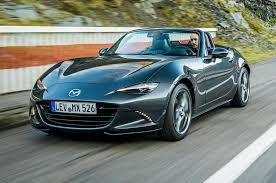car: (23, 22, 257, 152)
